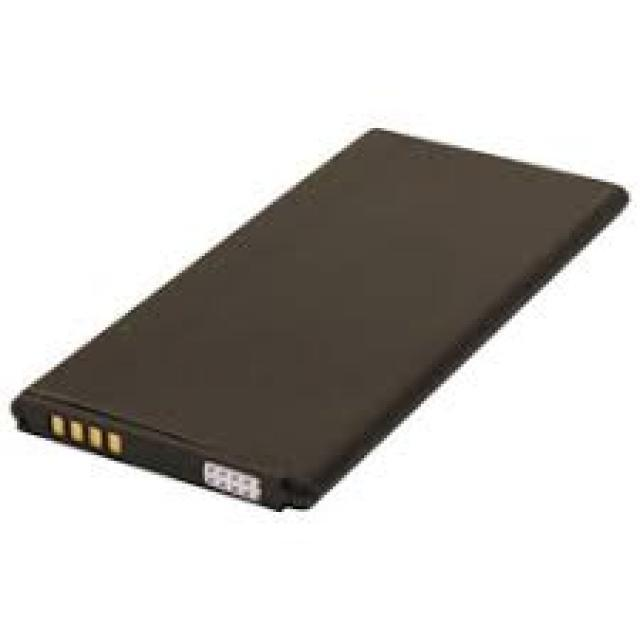battery: (16, 126, 633, 520)
